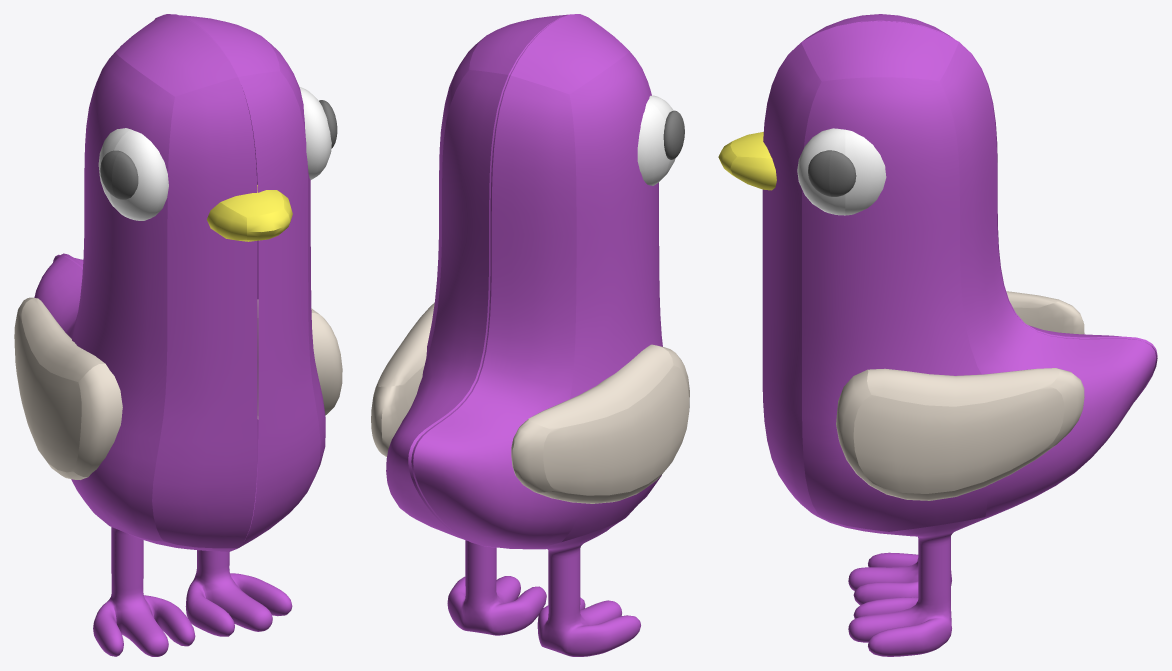
The model's file is pidgey.gltf.
3 views of the same model, side by side, from view 1: azimuth 30°, elevation 25°; view 2: azimuth 150°, elevation 25°; view 3: azimuth 270°, elevation 25° (orthographic). The views are drawn at different scales.
Visible parts, largest first — view 1: Pigeon; view 2: Pigeon; view 3: Pigeon.
Boxes of the visible parts, x1,y1,x2,y2 form: Pigeon: (14,14,342,656); Pigeon: (371,14,689,656); Pigeon: (718,14,1157,656).
Bounding box in the file's own units: 0.3457 × 0.757 × 0.5033.
